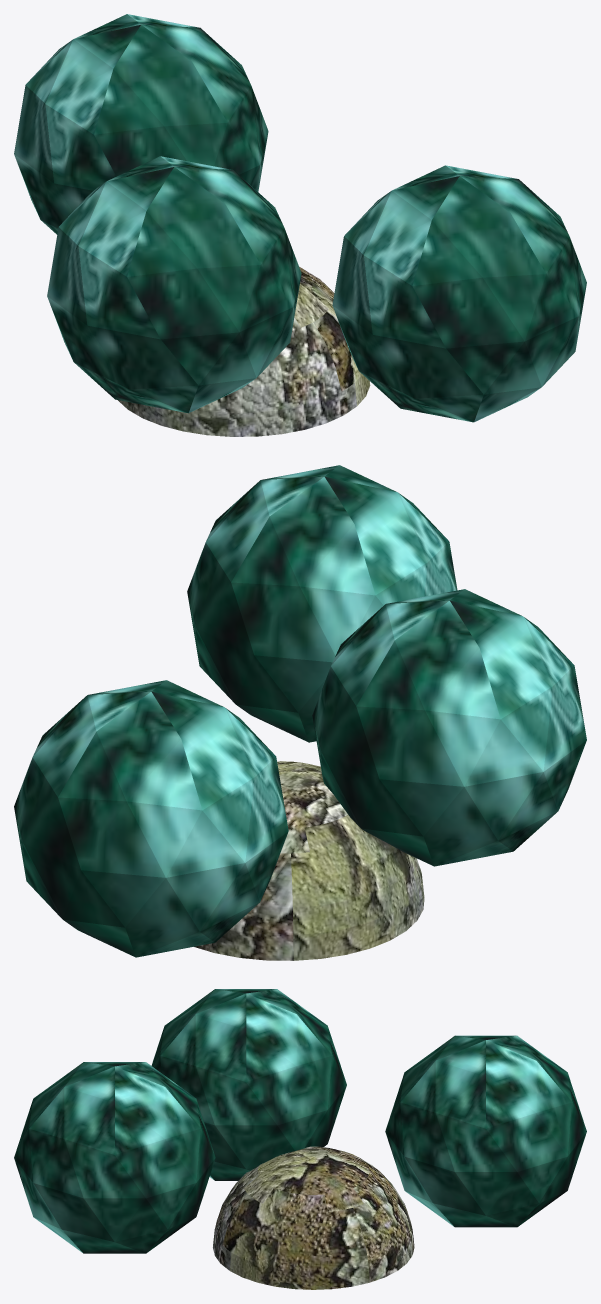
3 renders of one model, top to bottom at view 1: azimuth 30°, elevation 25°; view 2: azimuth 150°, elevation 25°; view 3: azimuth 270°, elevation 25°, orthographic. The views are drawn at different scales.
Parts seen in each view (by area): view 1: Sphere; view 2: Sphere; view 3: Sphere.
Part boxes in pixels (x1,y1,x2,y2): Sphere: (14, 14, 586, 436); Sphere: (14, 465, 586, 960); Sphere: (14, 989, 586, 1289).
Size of the model in its own units: 688 by 440 by 1061.
Materials: 2 (2 with a texture image).
